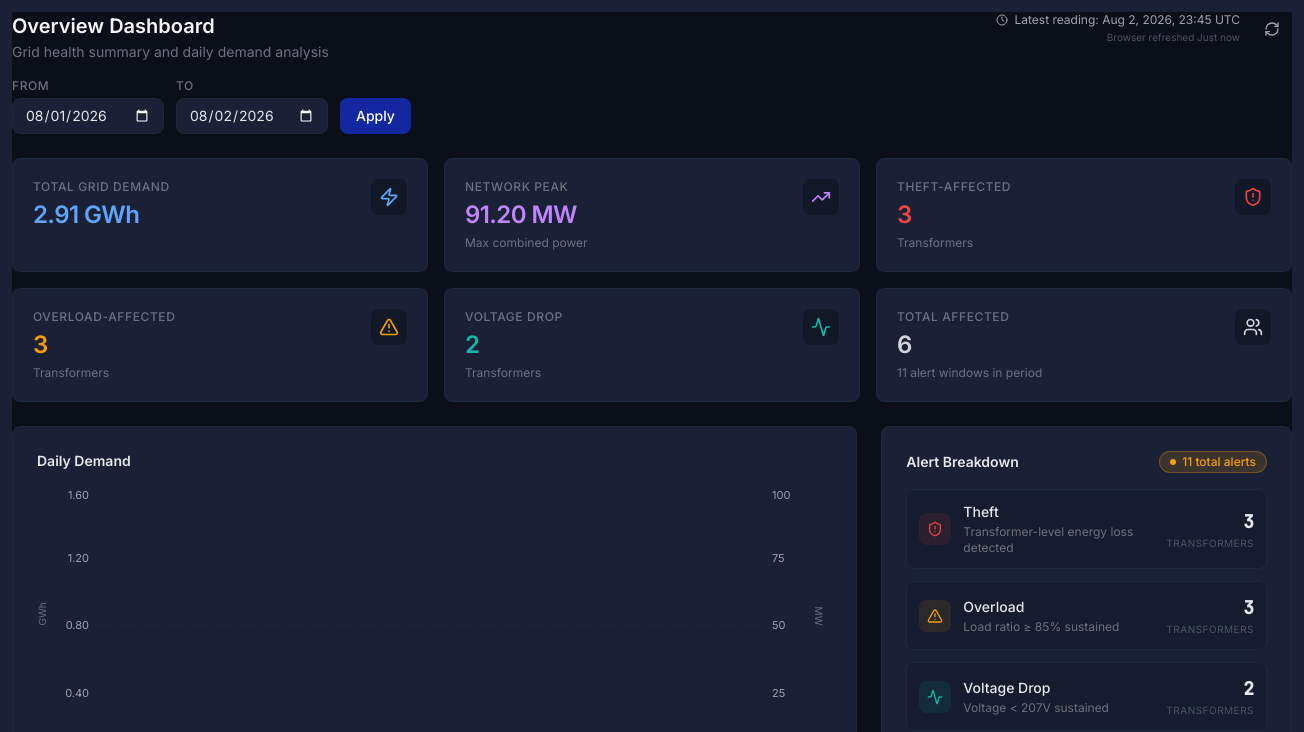
Test: OverviewPage › validates date range before applying
Expected: the text "2.91 GWh" is shown, 33,200 -> 139,229
Type "2026-09-01" into the date field labelled "From". click: (88, 116)
box: 12,98 -> 164,134
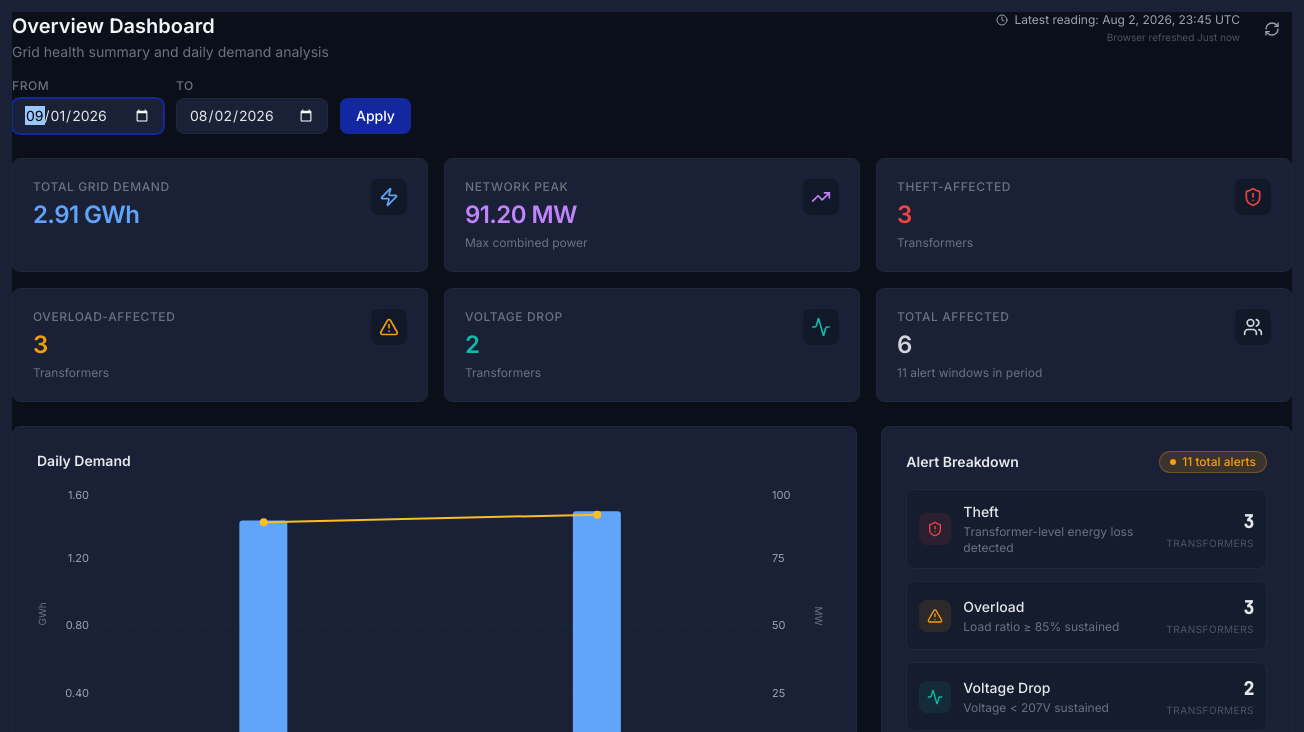
Type "2026-08-01" into the date field labelled "To". click: (252, 116)
box: 176,98 -> 328,134
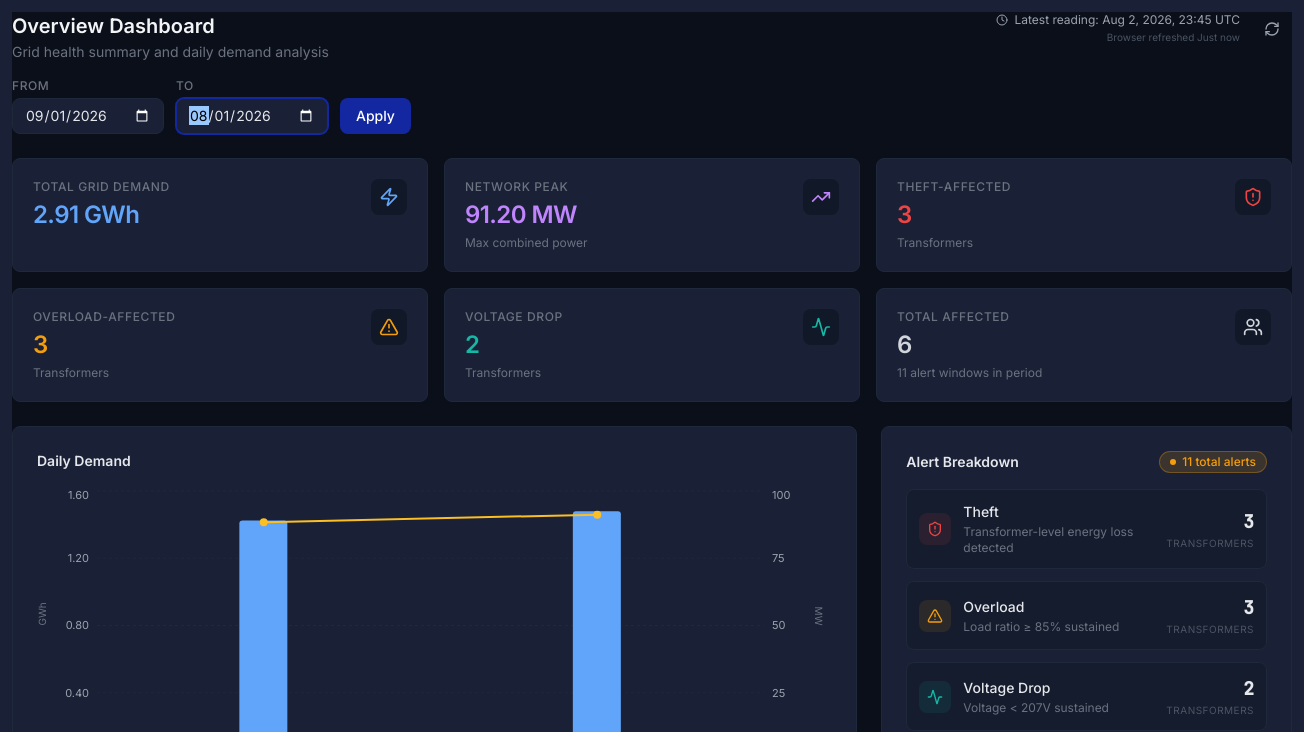
Click the button "Apply". click: (375, 116)
box: 340,98 -> 411,134
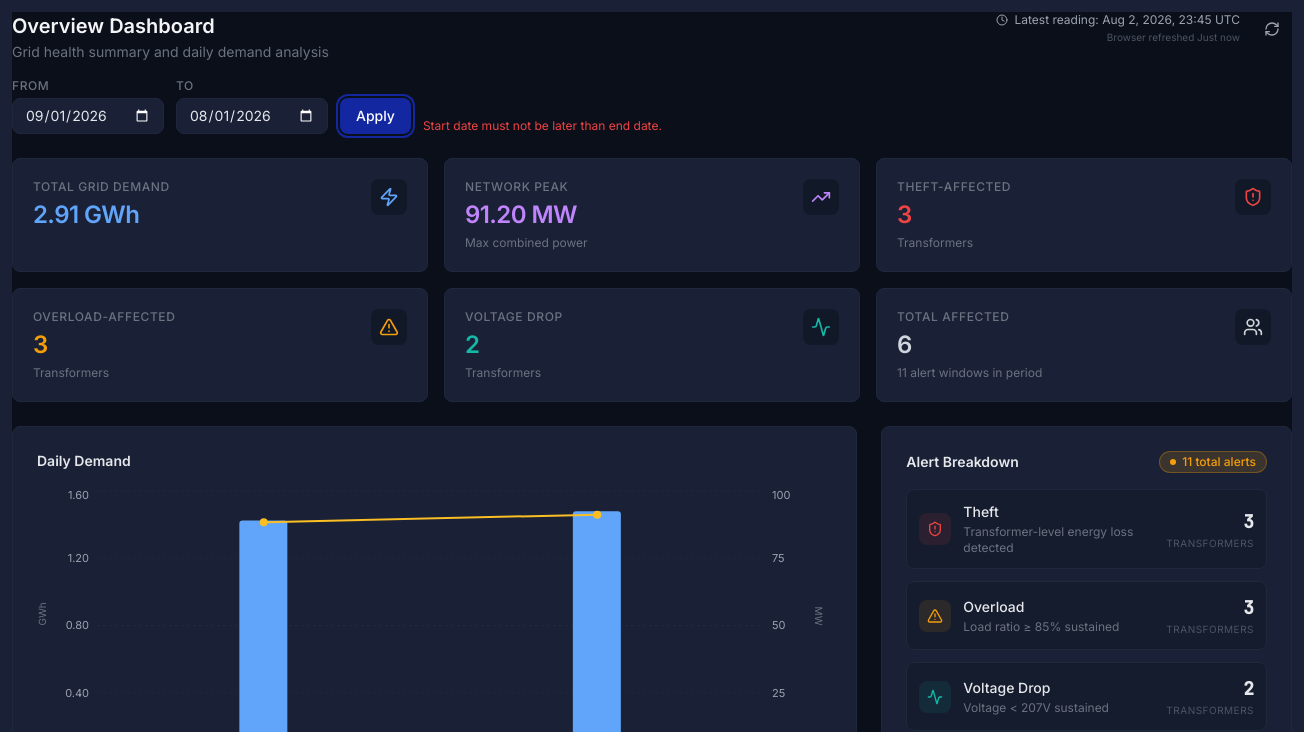
Now the text "Start date must not be later than end date." is shown, box 423,118 -> 662,134
